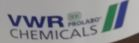VWR: (6, 1, 130, 40)
